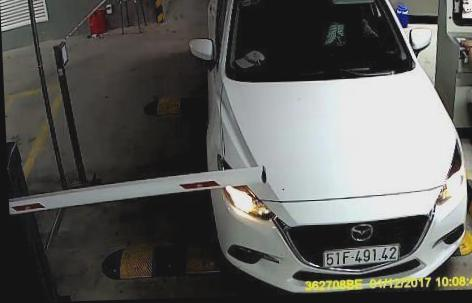License_Plate: (322, 244, 400, 267)
